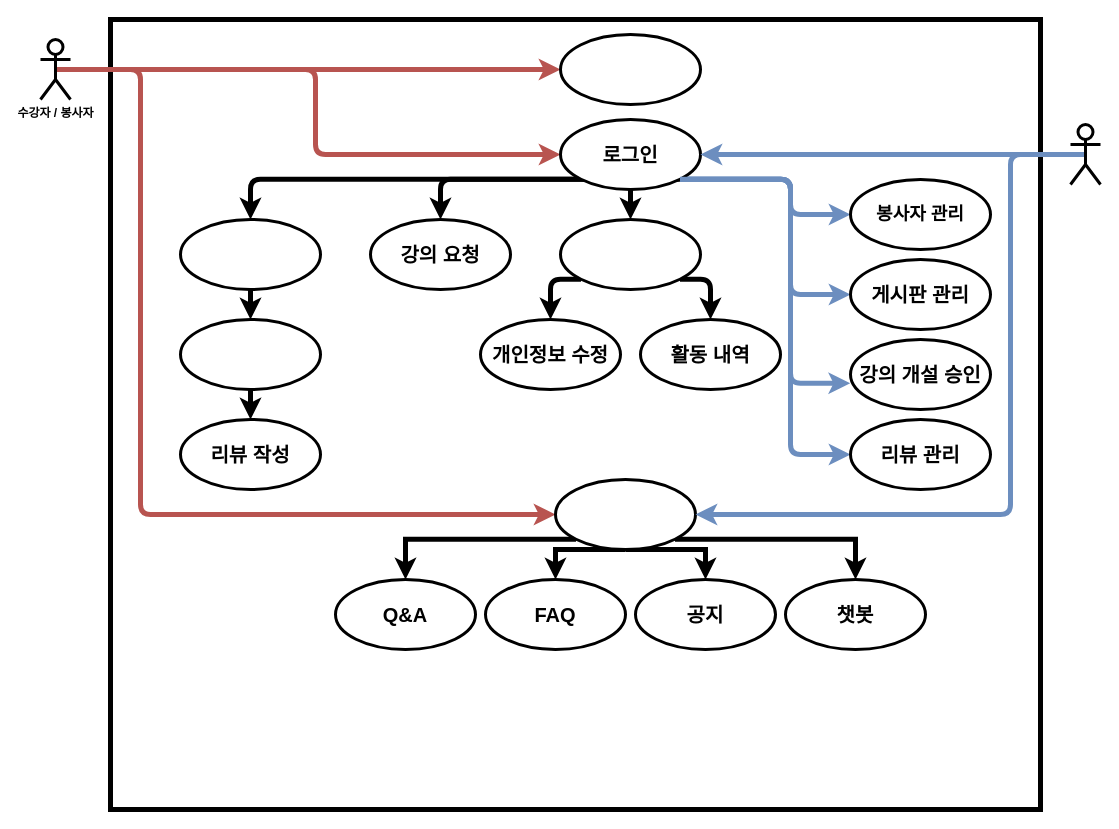
The diagram is 1119 pixels wide and 829 high, and some of its shapes have lost their labels. The shapes that lost their labels are listed below. From the top down, each one's centre as x and y in pixels, then its label:
pixel 630 69: 회원가입
pixel 1085 154: 관리자
pixel 250 254: 강의 목록
pixel 630 254: 마이페이지
pixel 250 354: 수강 신청
pixel 625 514: 고객센터
